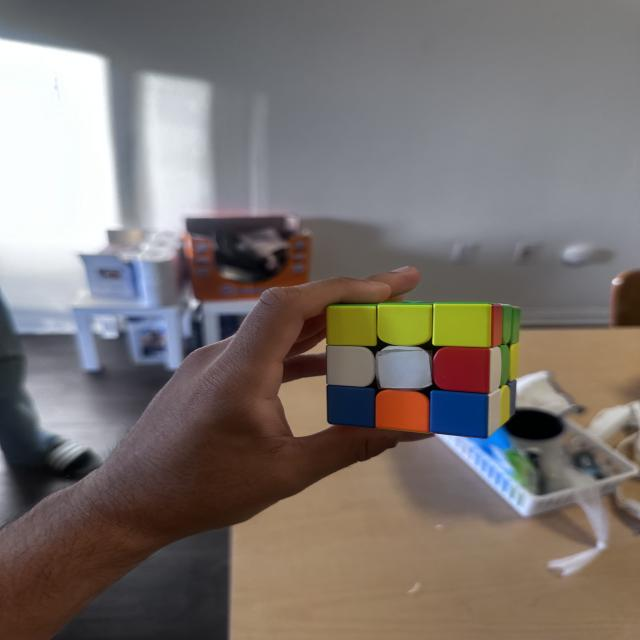sticker: (430, 386, 500, 440), (432, 346, 503, 396), (432, 302, 496, 352), (374, 388, 431, 435), (376, 301, 433, 348), (325, 302, 380, 348), (326, 383, 378, 430), (324, 344, 378, 389), (500, 303, 515, 345), (497, 342, 511, 386), (499, 384, 512, 428), (507, 304, 521, 344), (507, 341, 520, 382)
